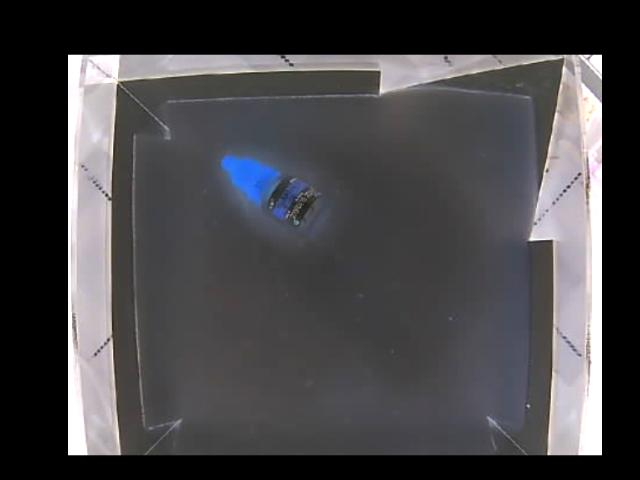Bottle: (216, 153, 330, 238)
